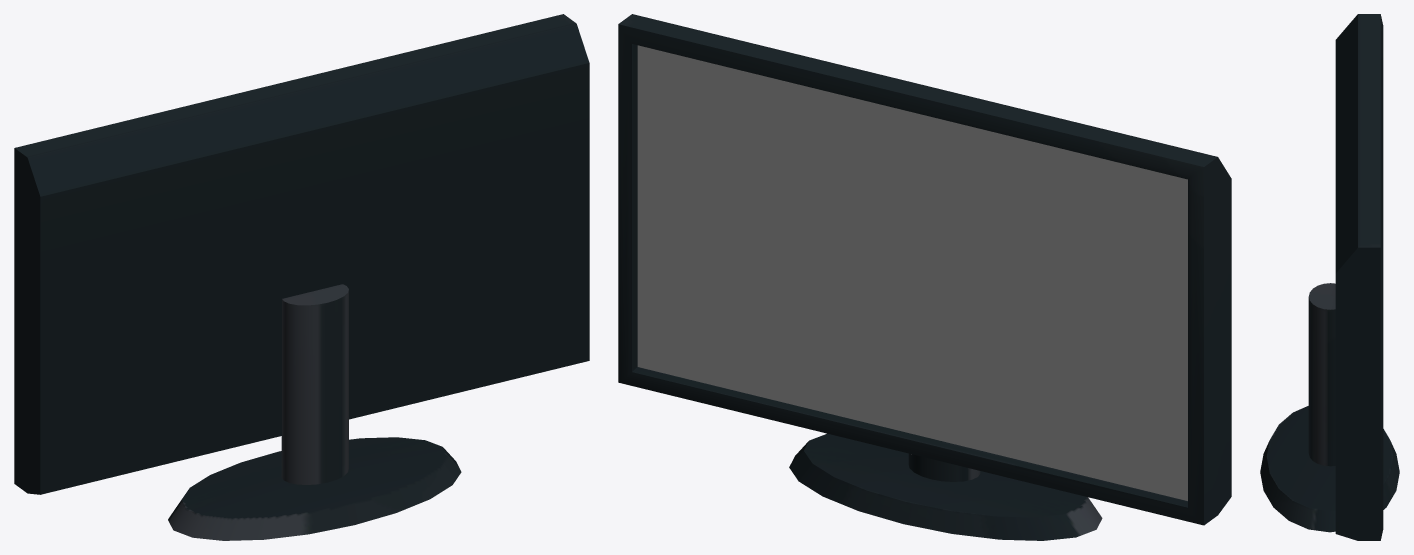
3 renders of one model, left to right at view 1: azimuth 30°, elevation 25°; view 2: azimuth 150°, elevation 25°; view 3: azimuth 270°, elevation 25°, orthographic. The views are drawn at different scales.
Parts seen in each view (by area): view 1: tv; view 2: tv; view 3: tv.
Boxes of the visible parts, box(x1,y1,x2,y2) form: tv: box(14, 14, 589, 540); tv: box(618, 14, 1231, 540); tv: box(1260, 14, 1399, 540).
Bounding box in the file's own units: 272 × 186 × 68.59.
